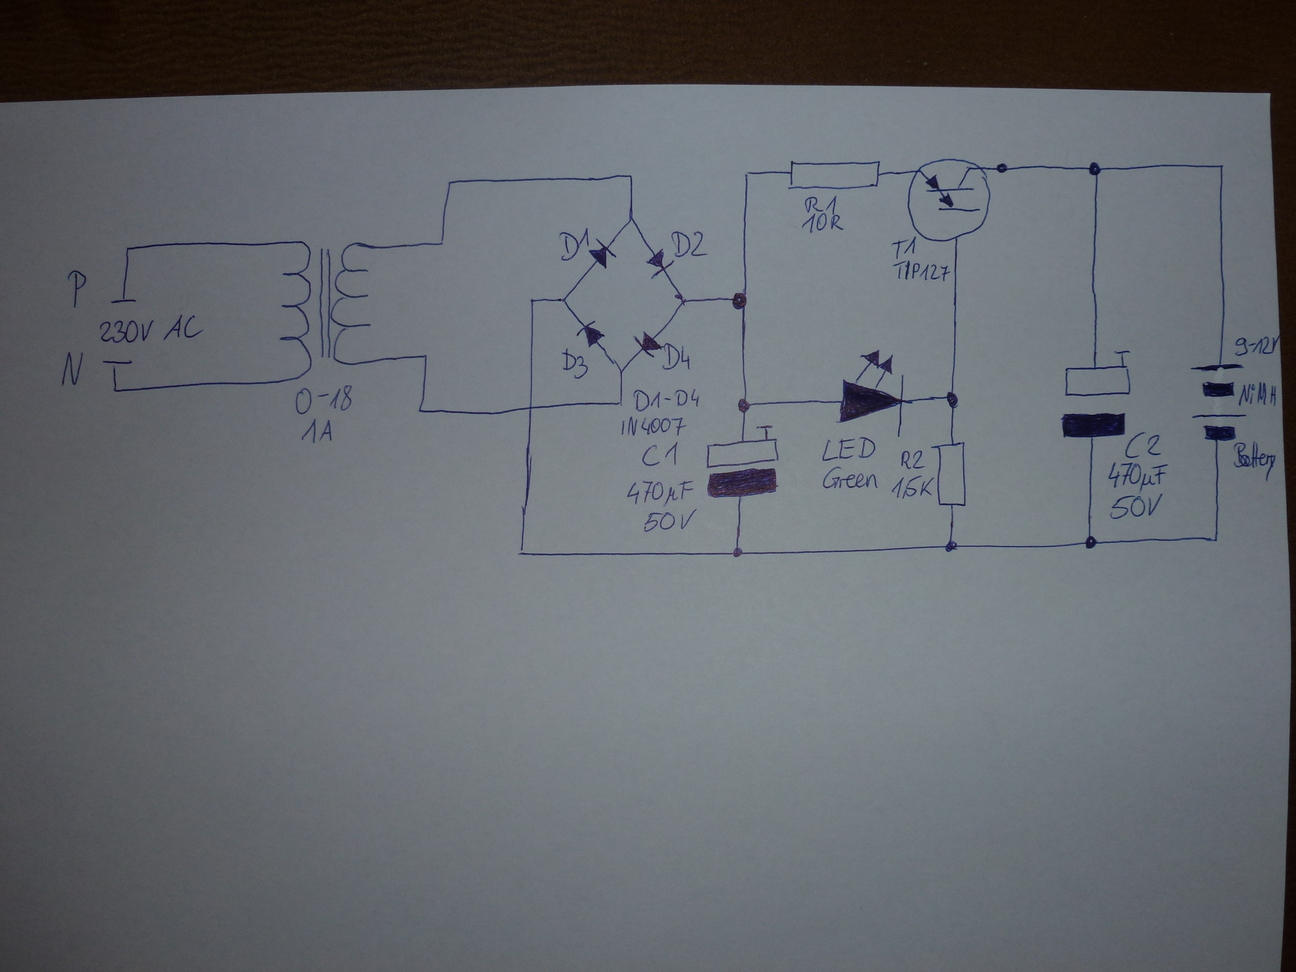capacitor.polarized: (1059, 347, 1134, 441), (704, 422, 781, 499)
crossover: (525, 403, 535, 412)
diode: (574, 315, 607, 349), (583, 237, 618, 268), (631, 329, 663, 359), (642, 246, 670, 278)
diode.light_emitting: (834, 345, 906, 438)
junction: (1084, 159, 1106, 181), (731, 289, 749, 312), (943, 388, 962, 409), (735, 395, 753, 415), (1082, 532, 1099, 551), (942, 537, 960, 554), (109, 382, 124, 398), (729, 545, 744, 560), (672, 292, 688, 305), (413, 403, 429, 417), (443, 177, 457, 190), (1209, 533, 1222, 545), (121, 243, 134, 255), (436, 236, 447, 249), (419, 350, 431, 363), (625, 171, 637, 182), (1214, 160, 1227, 172), (515, 546, 527, 558), (559, 294, 571, 305), (625, 215, 637, 227), (614, 363, 627, 374), (742, 168, 753, 179), (614, 396, 625, 407), (527, 295, 537, 305)
resistor: (785, 155, 884, 193), (932, 441, 968, 507)
terminal: (107, 292, 142, 309), (100, 355, 135, 372)
text: (98, 310, 205, 346), (624, 475, 696, 507), (293, 384, 355, 416), (634, 385, 701, 414), (1107, 460, 1167, 492), (1233, 439, 1276, 479), (819, 434, 879, 463), (821, 468, 889, 492), (63, 269, 97, 314), (1109, 494, 1165, 521), (619, 415, 687, 436), (642, 508, 698, 534), (669, 228, 709, 262), (891, 259, 951, 282), (1237, 379, 1279, 409), (556, 228, 593, 262), (640, 440, 681, 470), (1123, 430, 1162, 459), (890, 474, 936, 499), (57, 348, 86, 388), (298, 417, 337, 445), (1234, 333, 1279, 357), (558, 347, 588, 377), (800, 213, 844, 233), (659, 343, 688, 372), (891, 233, 918, 259), (803, 194, 837, 214), (898, 447, 927, 471)
transformer: (273, 233, 376, 387)
transistor: (904, 158, 993, 243)
voltage.dc: (1187, 361, 1248, 444)
